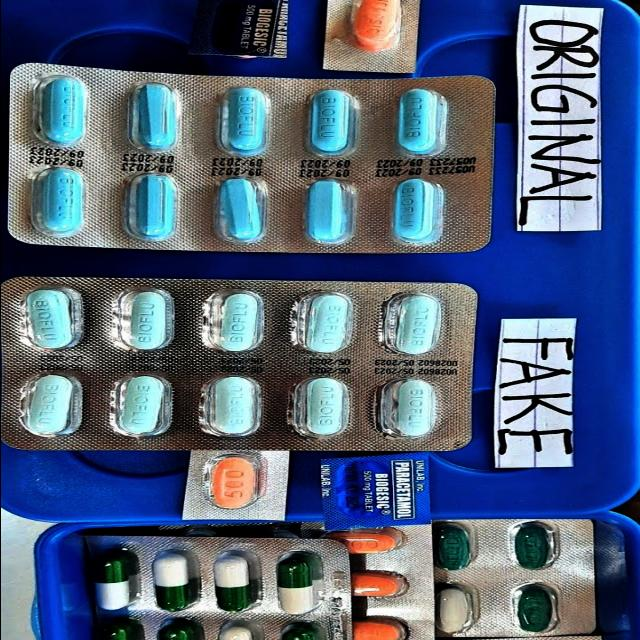authentic: (15, 69, 499, 251)
counterfeit: (2, 284, 474, 448)
